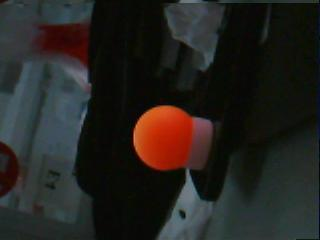oball: (133, 104, 192, 170)
